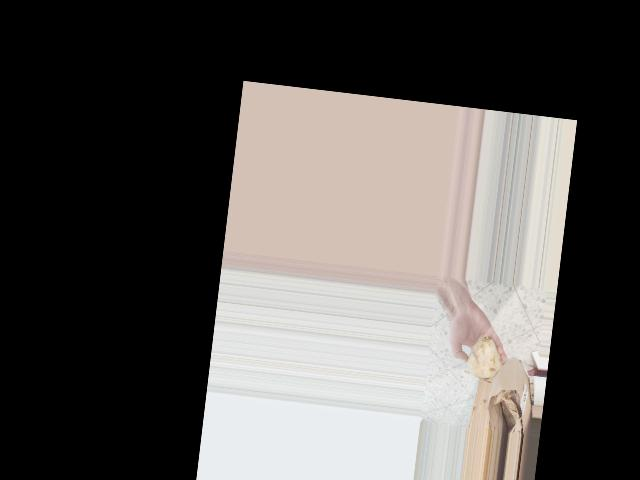onion: (464, 335, 506, 385)
